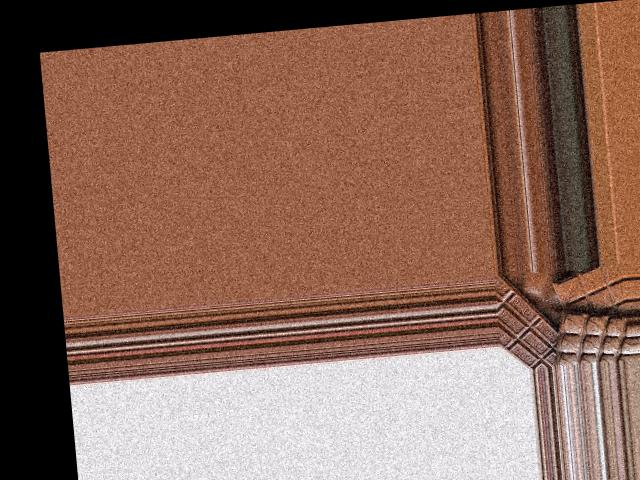chocolate: (552, 269, 628, 331)
